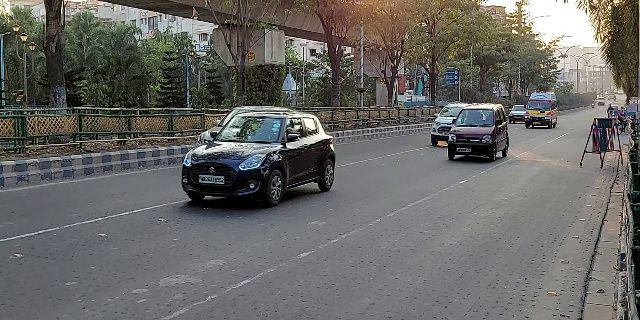Car: (179, 104, 340, 212), (445, 103, 508, 164), (428, 101, 466, 145), (506, 99, 526, 124)
Van: (522, 88, 563, 131)
